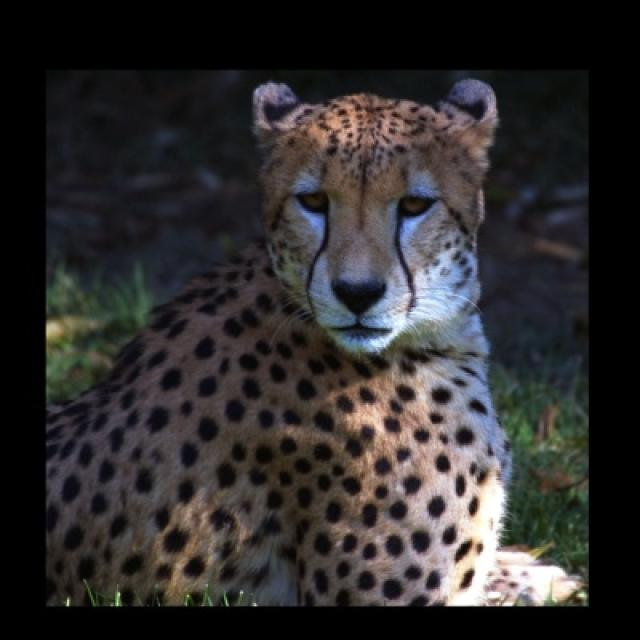Cheetah: (41, 74, 582, 613)
